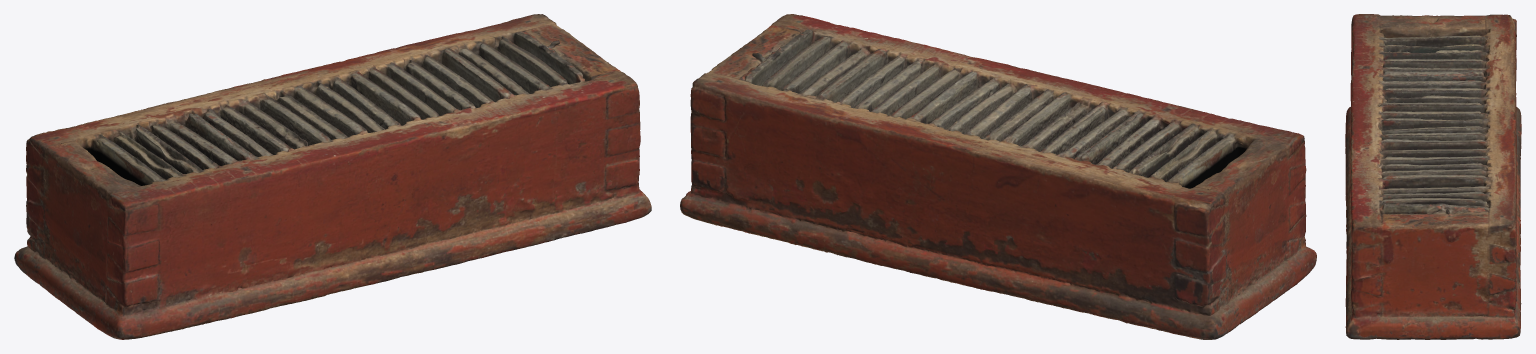
File: henry-trough-battery-4k-fcc6de0f64.glb
3 views of the same model, side by side, from view 1: azimuth 30°, elevation 25°; view 2: azimuth 150°, elevation 25°; view 3: azimuth 270°, elevation 25° (orthographic). The views are drawn at different scales.
Size of the model in its own units: 7.85 by 1.99 by 2.69.
1 material, 1 textured.
